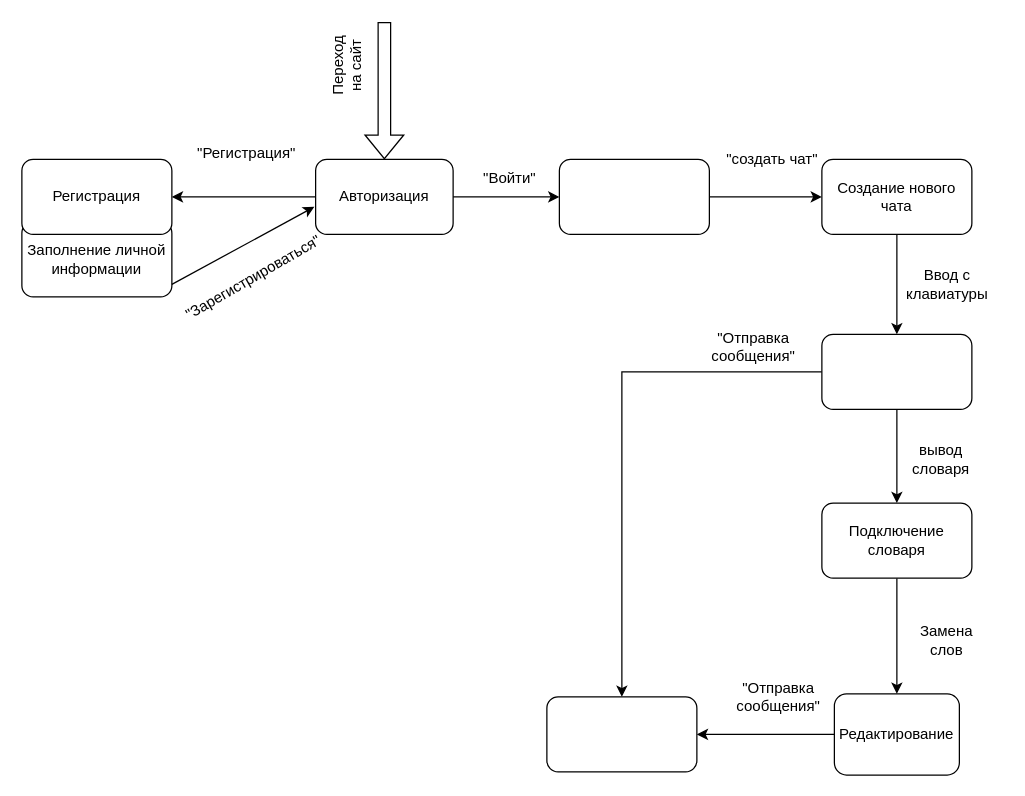
Some shapes in this 1025 by 796 pixel diagram are drawn without their labels. The shapes that lost their labels are listed below. From the top down, each one's box as (x1, y1, x2, y2) in pixels, then its label:
(558, 158, 709, 234): Мессенджер (список чатов)
(821, 333, 972, 409): Созданиее сообщений
(546, 696, 697, 772): диалоговое окно
